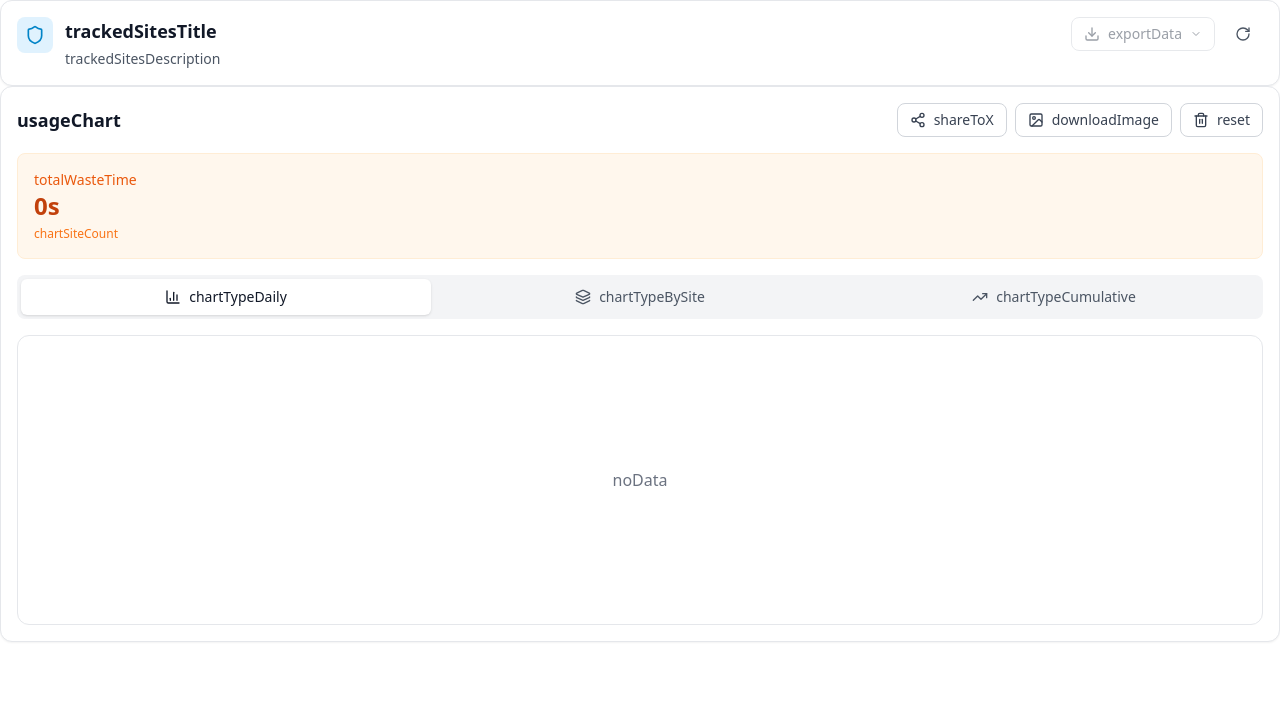
Test case: AnalyticsExportBar › X へのシェア › 画像を取れなければ失敗を伝え、シェアしない
Step 1. Click the button titled "shareToX" → [952, 120], box [897, 103, 1007, 137]
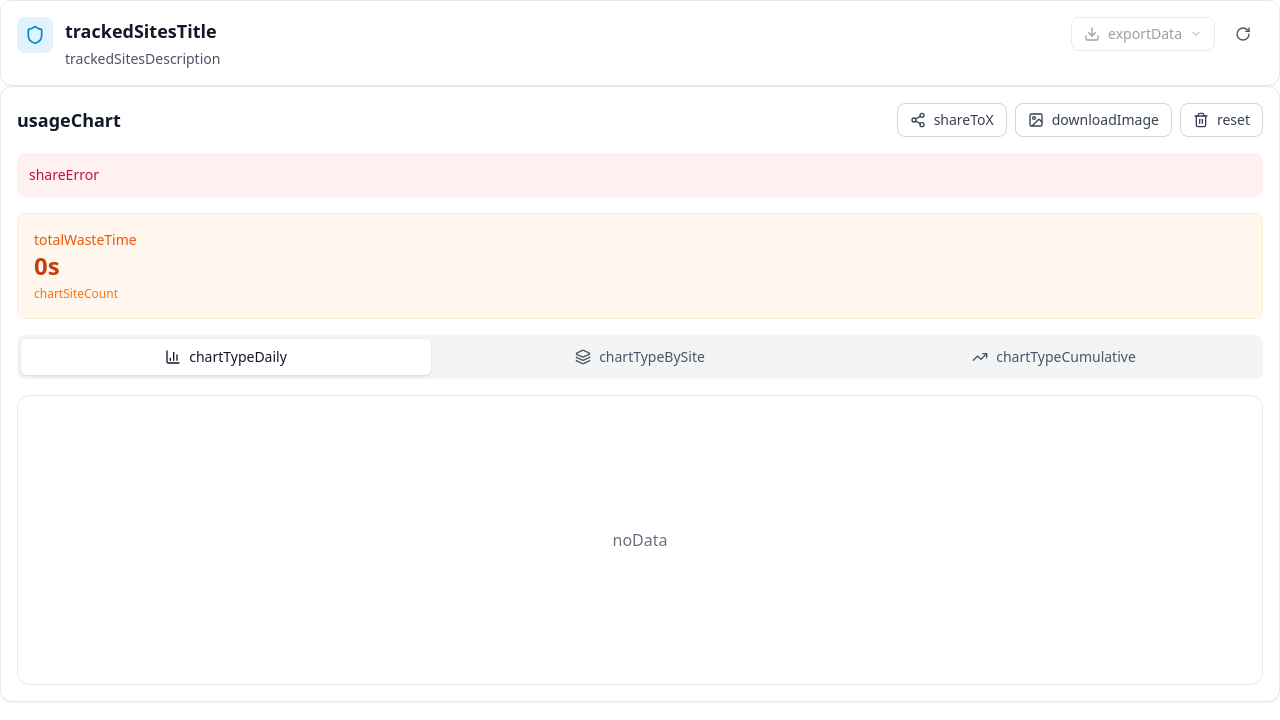
Now the text "shareError" is shown, box [17, 153, 1263, 197]
